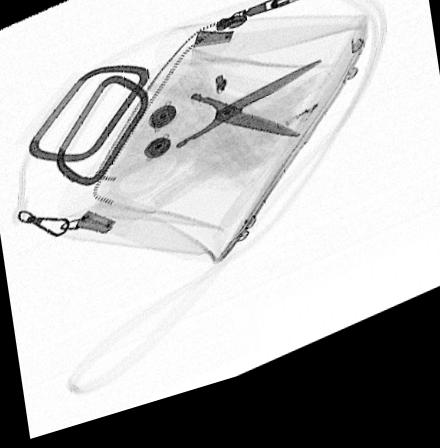Scissors: (108, 69, 321, 210)
